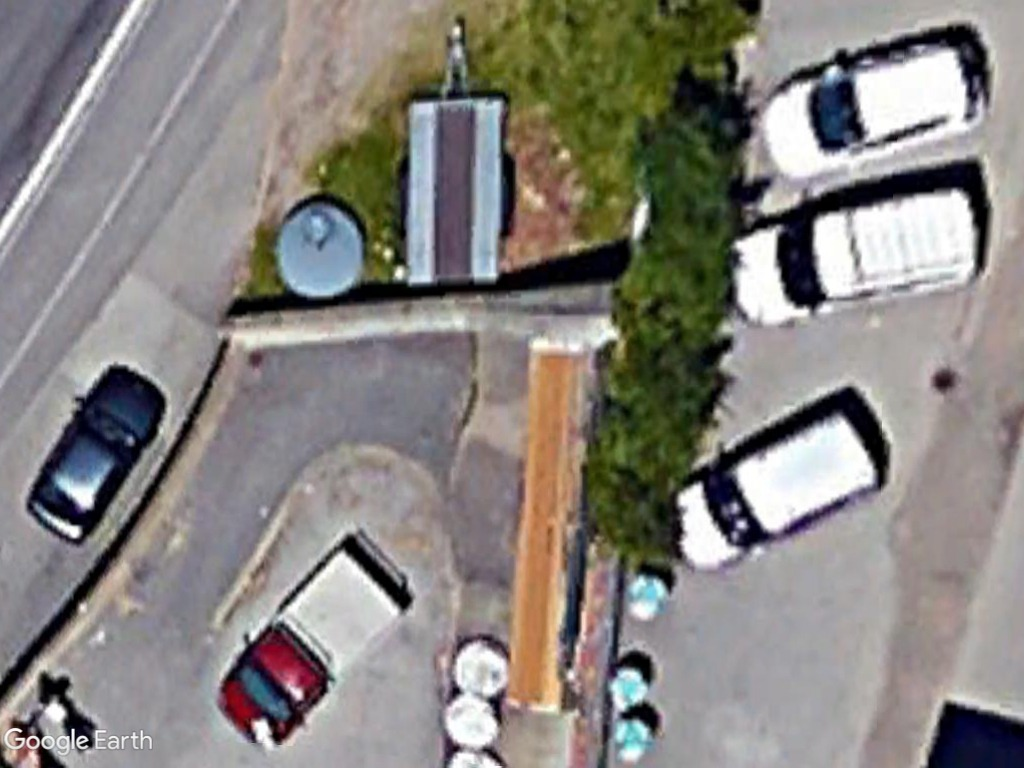car: (758, 35, 1004, 183), (24, 356, 172, 551)
others: (215, 545, 414, 751)
van: (729, 186, 996, 333), (660, 413, 892, 574)
